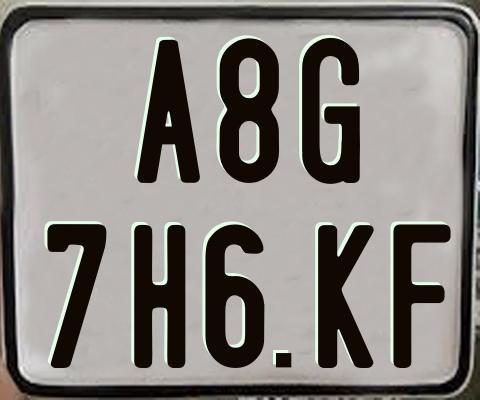6: (202, 222, 262, 370)
7: (44, 221, 105, 365)
8: (217, 36, 279, 185)
A: (135, 39, 199, 182)
F: (392, 222, 454, 366)
G: (301, 38, 360, 186)
H: (131, 223, 189, 371)
K: (318, 223, 377, 369)
